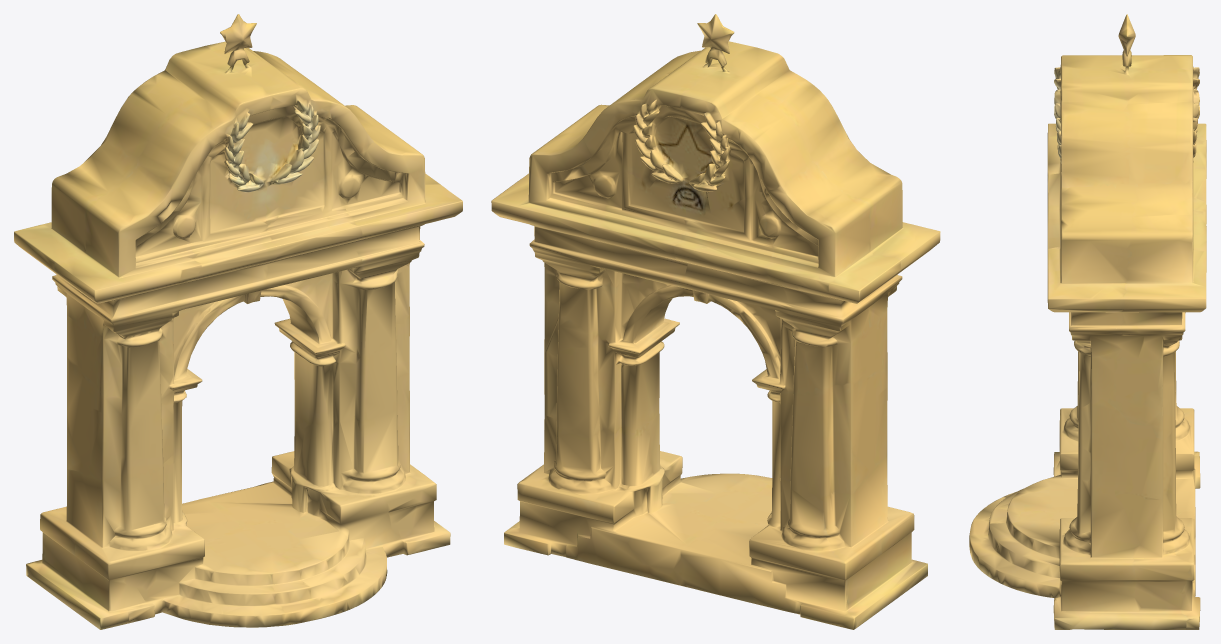
The model's file is lp_zielbogen.glb.
3 views of the same model, side by side, from view 1: azimuth 30°, elevation 25°; view 2: azimuth 150°, elevation 25°; view 3: azimuth 270°, elevation 25° (orthographic). The views are drawn at different scales.
Size of the model in its own units: 1.34 by 1.9 by 0.7663.
Materials: 1 (1 with a texture image).
